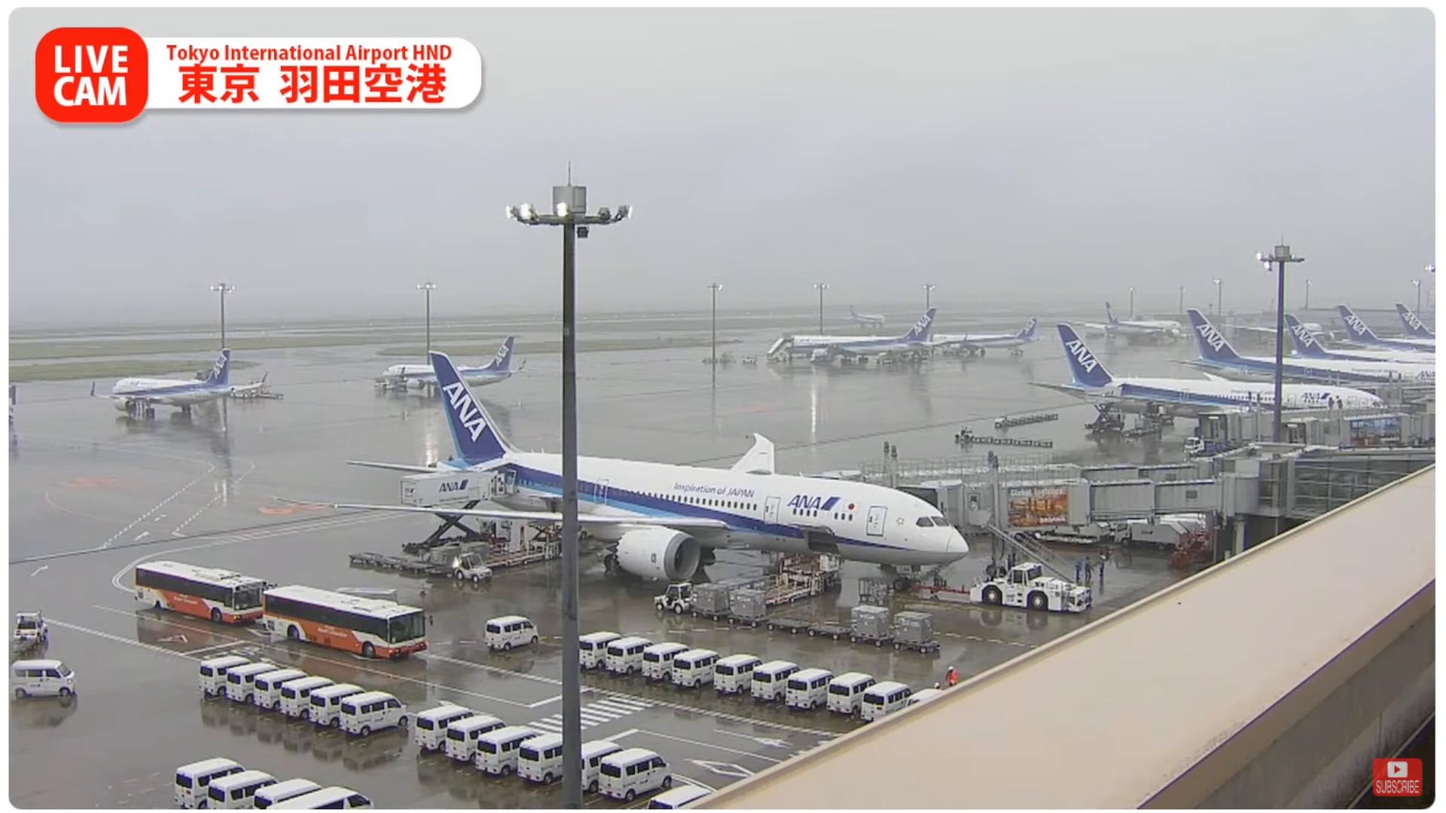APS: (968, 562, 1094, 614)
Aerobridge: (892, 474, 1261, 535), (796, 455, 1210, 487)
Airplane: (270, 351, 970, 592)
Catering: (400, 469, 508, 555)
Dolly: (692, 605, 940, 654), (348, 552, 451, 576)
JCPL: (701, 556, 833, 611), (476, 521, 564, 571)
Tractor: (653, 582, 699, 614), (452, 552, 488, 582)
Window: (1292, 458, 1433, 516)
